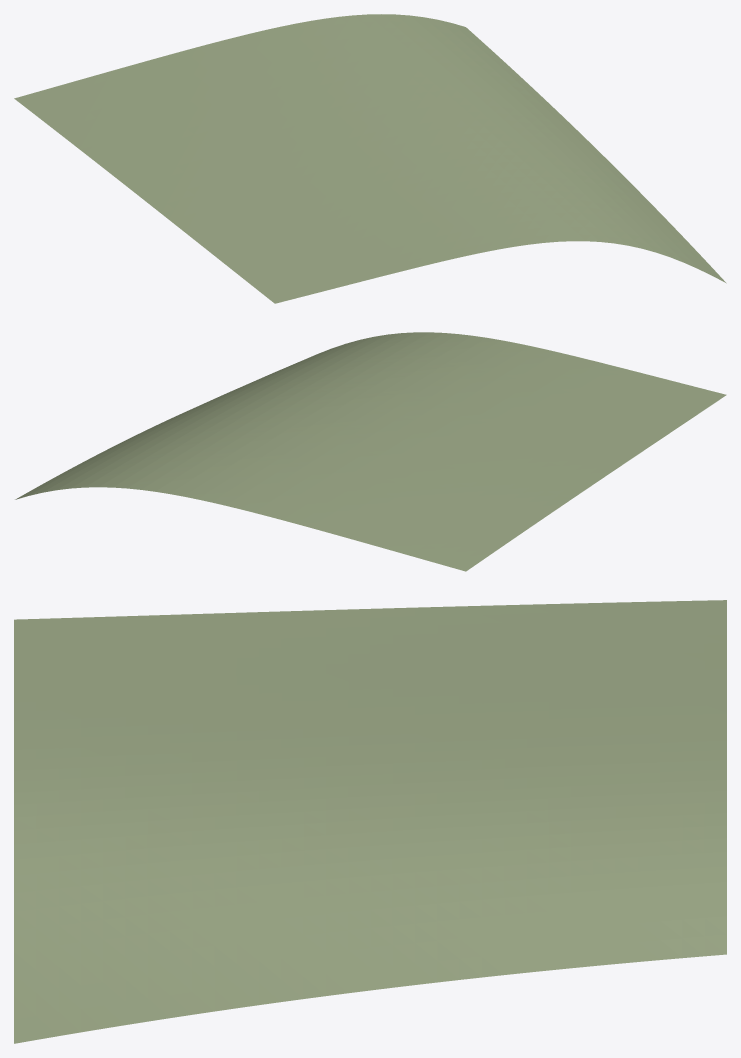
File: expanse-13-11.glb
3 renders of one model, top to bottom at view 1: azimuth 30°, elevation 25°; view 2: azimuth 150°, elevation 25°; view 3: azimuth 270°, elevation 25°, orthographic. The views are drawn at different scales.
Parts seen in each view (by area): view 1: expanse-13-11; view 2: expanse-13-11; view 3: expanse-13-11.
Boxes of the visible parts, box(x1,y1,x2,y2) form: expanse-13-11: box(14, 14, 726, 303); expanse-13-11: box(15, 332, 726, 571); expanse-13-11: box(14, 600, 726, 1043).
Bounding box in the file's own units: 256 × 60.38 × 256.
